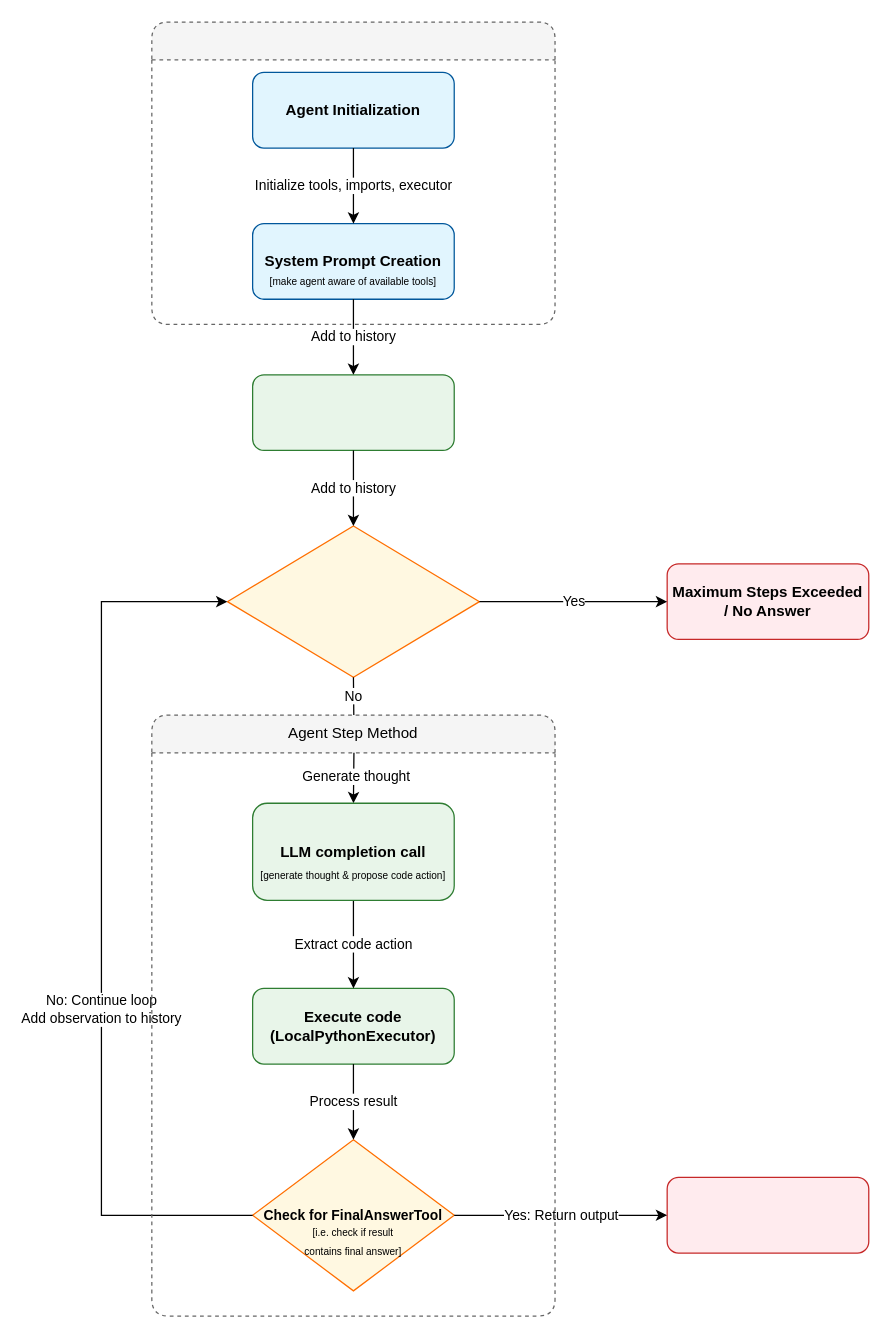
The diagram is 891 pixels wide and 1338 high, and some of its shapes have lost their labels. The shapes that lost their labels are listed below. From the top down, each one's centre as x and y in pixels, then its label:
At (x=353, y=172): "Agent Class Initialization".
At (x=352, y=412): "Receive Task".
At (x=352, y=601): "Solution Loop (nr_steps <= max_steps)".
At (x=767, y=1214): "Final Answer".
